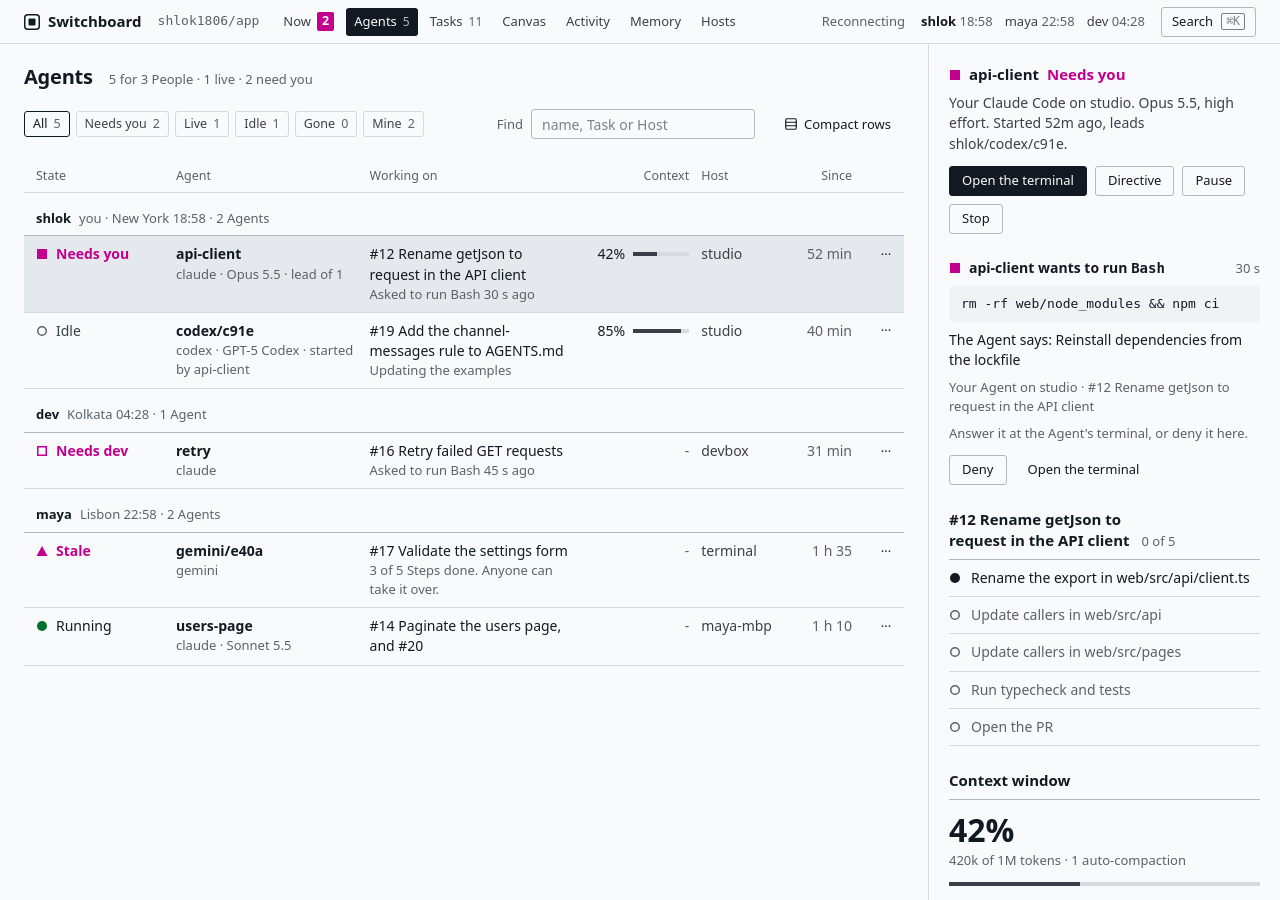
Test: a list whose filter or search matches nothing › Agents says so, and Clear the search brings the rows back
Type "zzzz" into the search field with placeholder "name, Task or Host".
click(643, 124); type("zzzz")  # box [531,109,755,139]
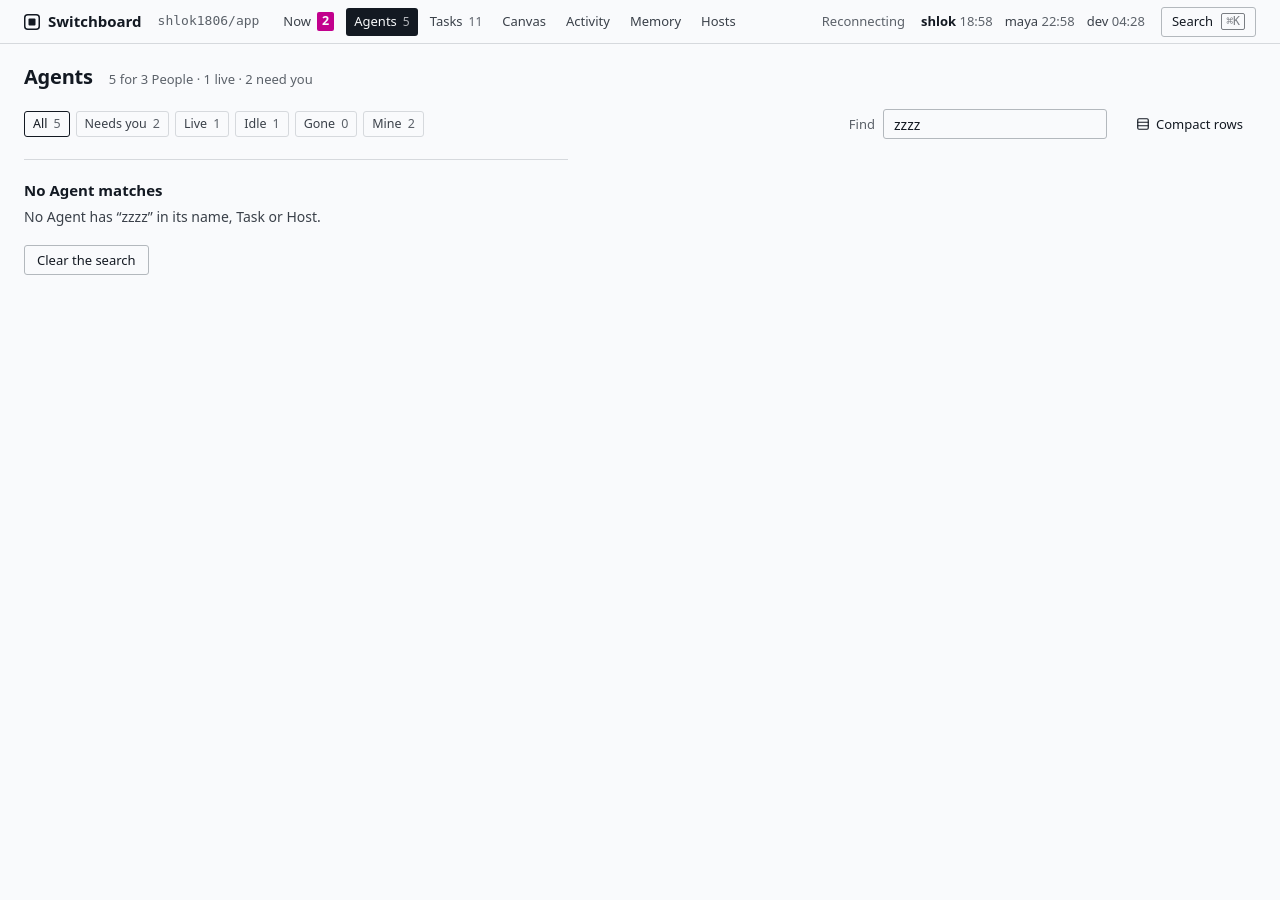
Result: the heading "No Agent matches" is shown at [24,180,162,201]
Click the button "Clear the search".
click(86, 260)  # box [24,245,149,275]
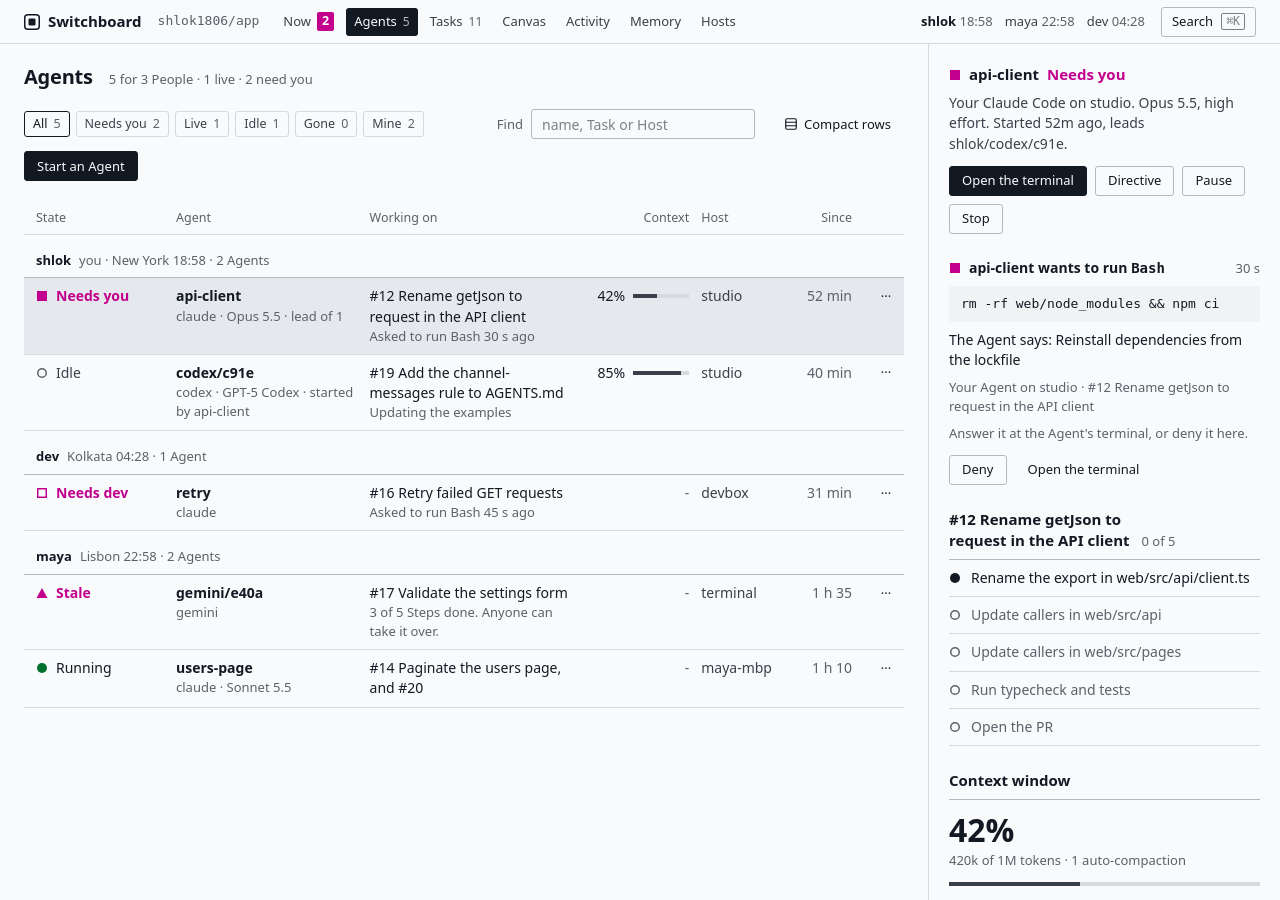
Result: the search field with placeholder "name, Task or Host" is empty at [531,109,755,139]
